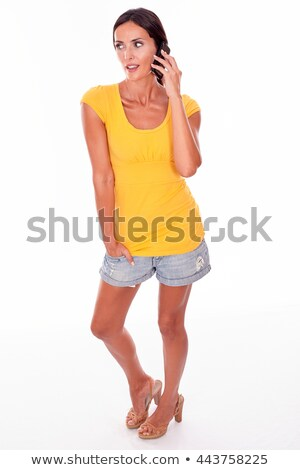phone: (150, 38, 173, 80)
talk: (116, 32, 188, 96)
